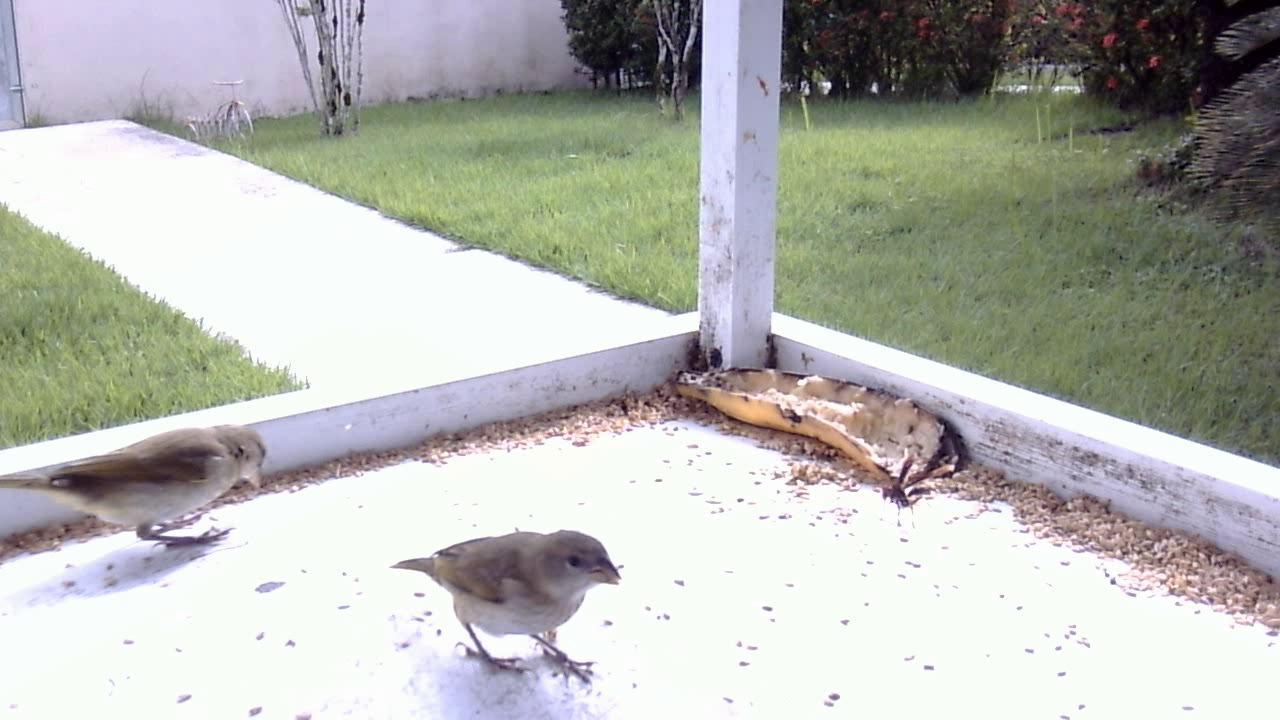canario_do_amazonas: (381, 521, 622, 696), (11, 415, 277, 557)
